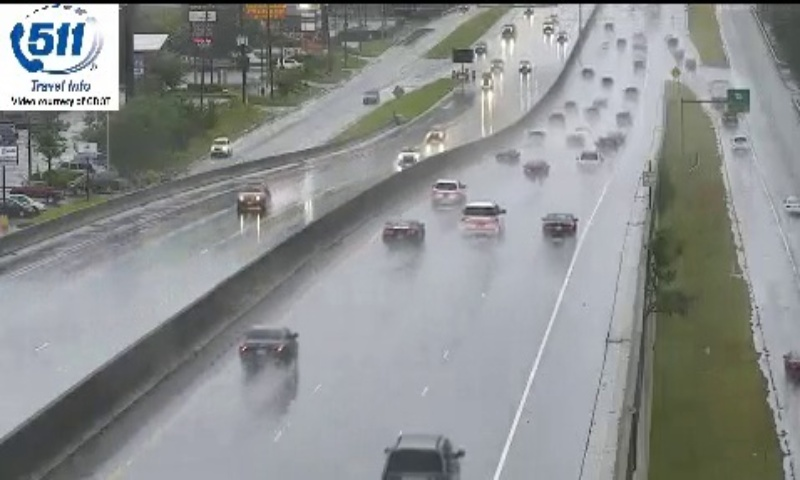car: (379, 434, 461, 480), (241, 325, 296, 367), (460, 200, 502, 234), (381, 219, 423, 245), (430, 179, 465, 207), (542, 213, 575, 240)
